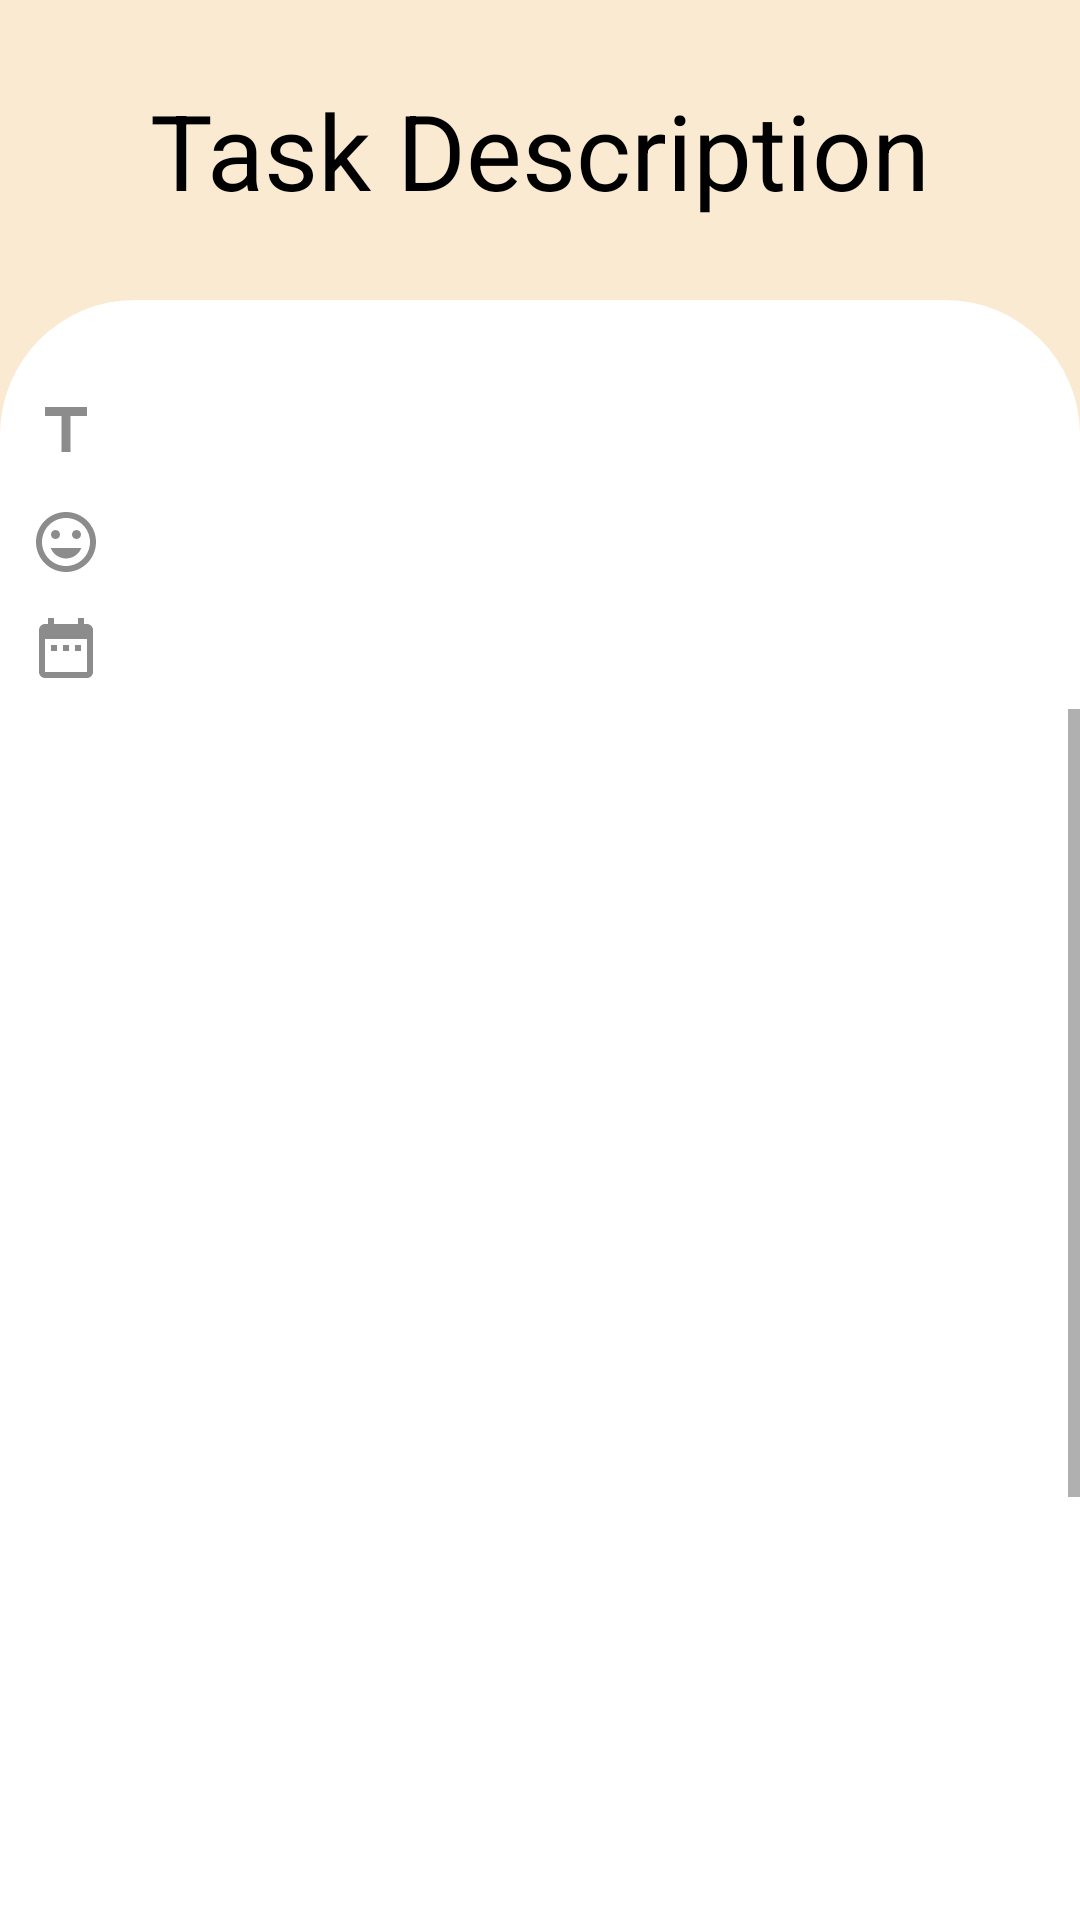

Where to tap for icons on this 1080x1920 app screen, as point (x, y):
date: point (66, 648)
title: point (66, 429)
